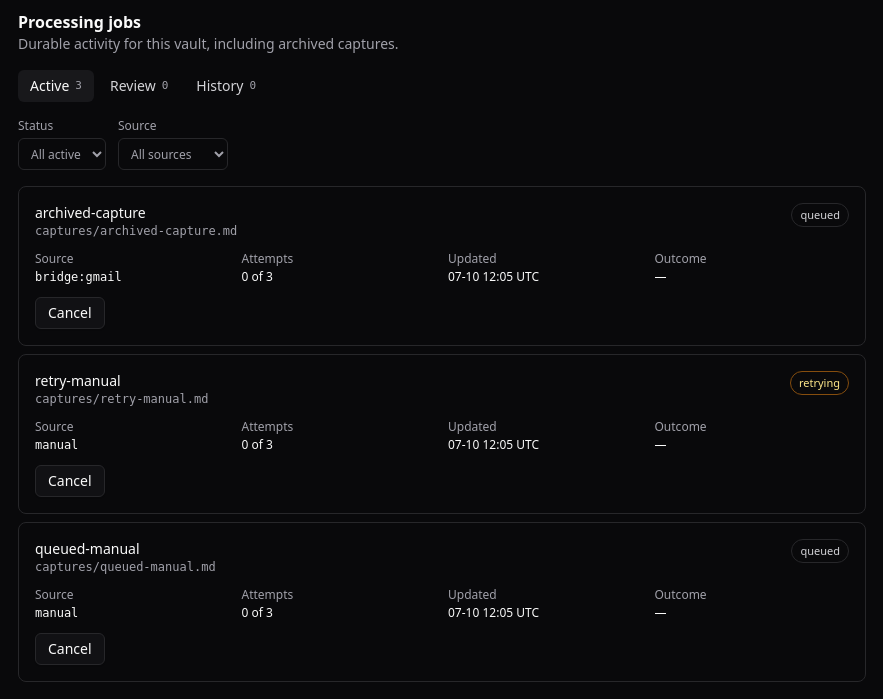
JobHistory › filters the current segment by both status and source
Select "queued" in the dropdown named "Filter jobs by status" at {"x": 62, "y": 154}, box [18,138,106,170]
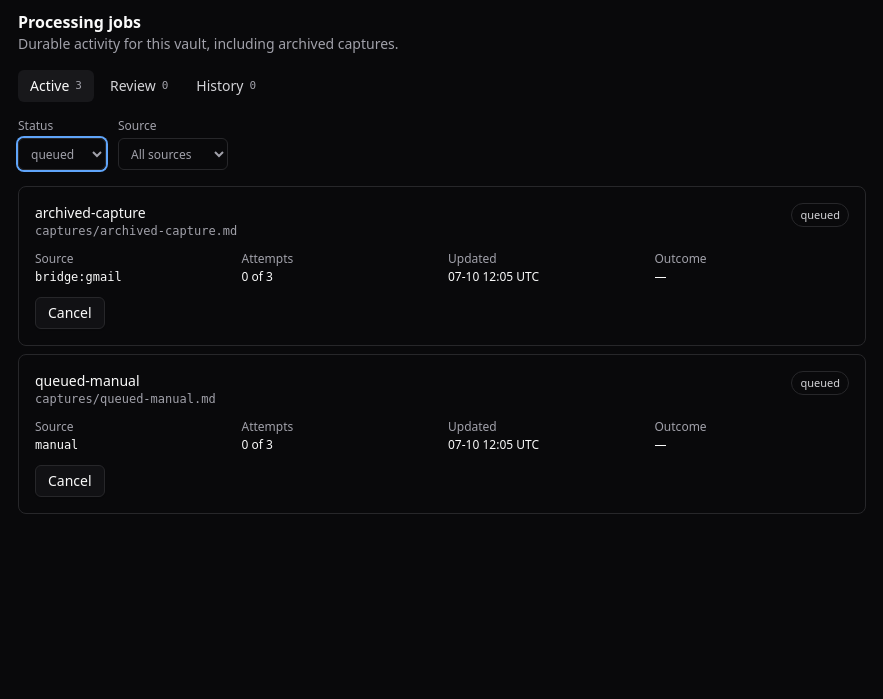
Select "bridge:gmail" in the dropdown named "Filter jobs by source" at {"x": 173, "y": 154}, box [118,138,228,170]
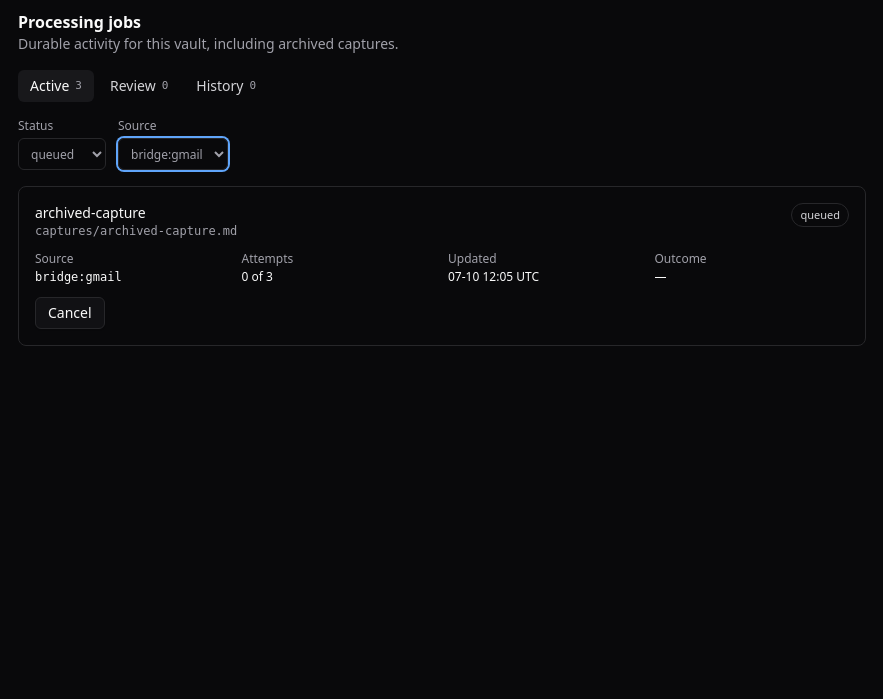
Expected: the heading "archived-capture" is shown, [35,203,146,222]
Expected: the heading "queued-manual" is gone
